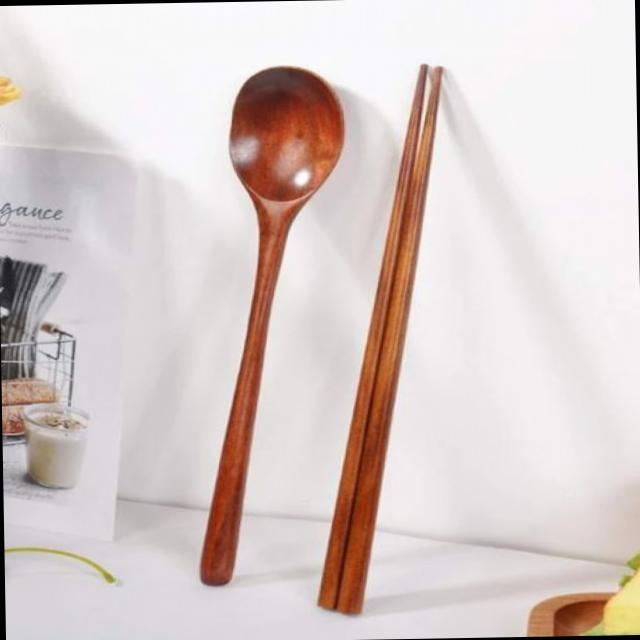spoon: (179, 57, 379, 594)
